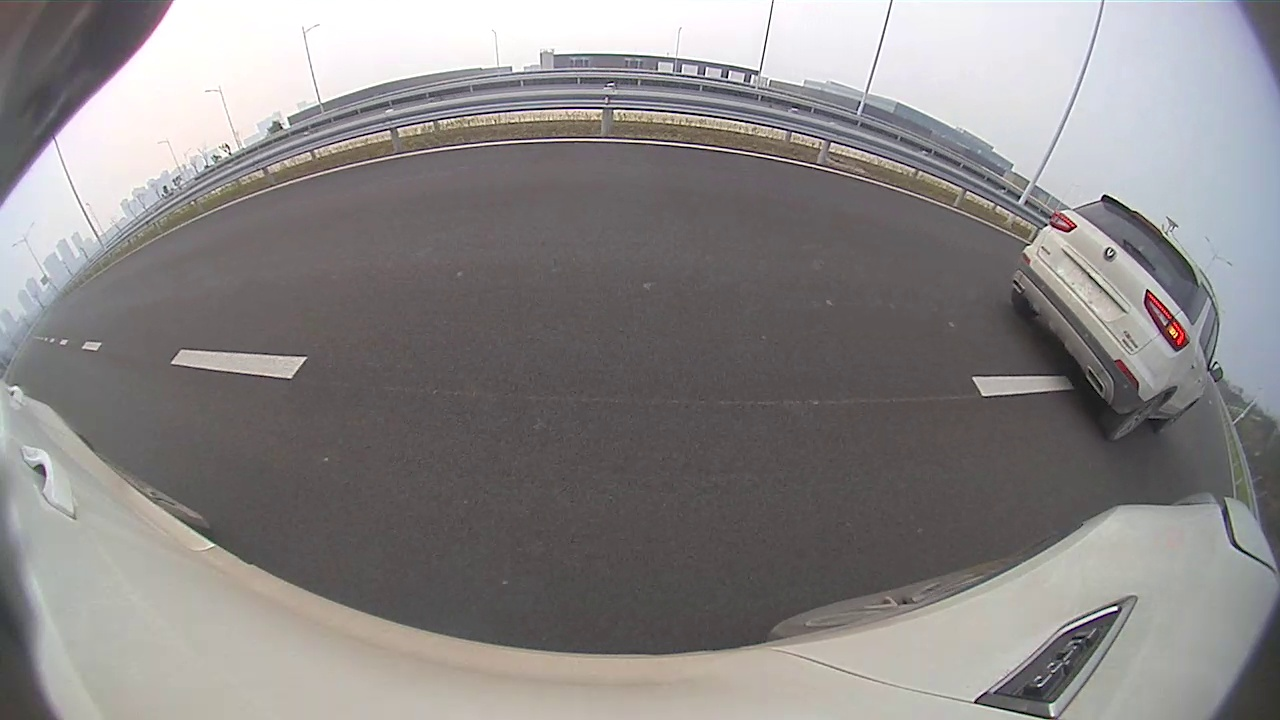car: (1011, 195, 1223, 441)
rear: (1109, 391, 1173, 443)
